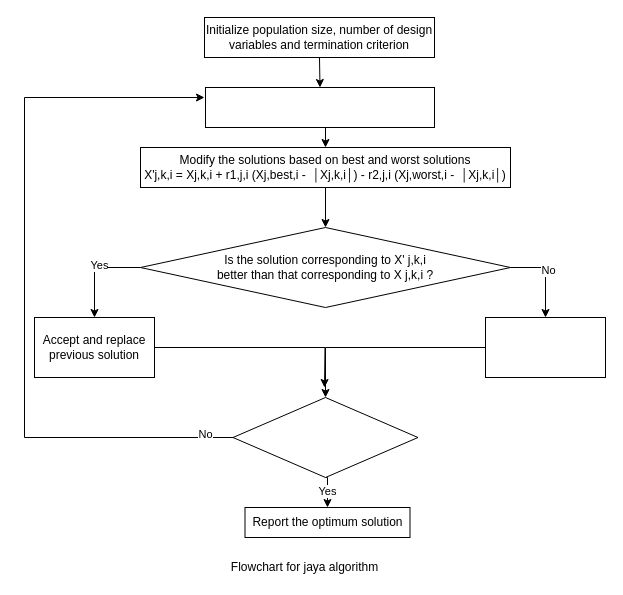
Some shapes in this 623 by 595 pixel diagram are drawn without their labels. Here are the shapes that lost their labels. From the top down, the centre of each, then its label:
the point at 319,107: Identify best and worst solutions in the population
the point at 545,347: Keep the previous solution
the point at 325,437: Is the termination criteria satisfied?
